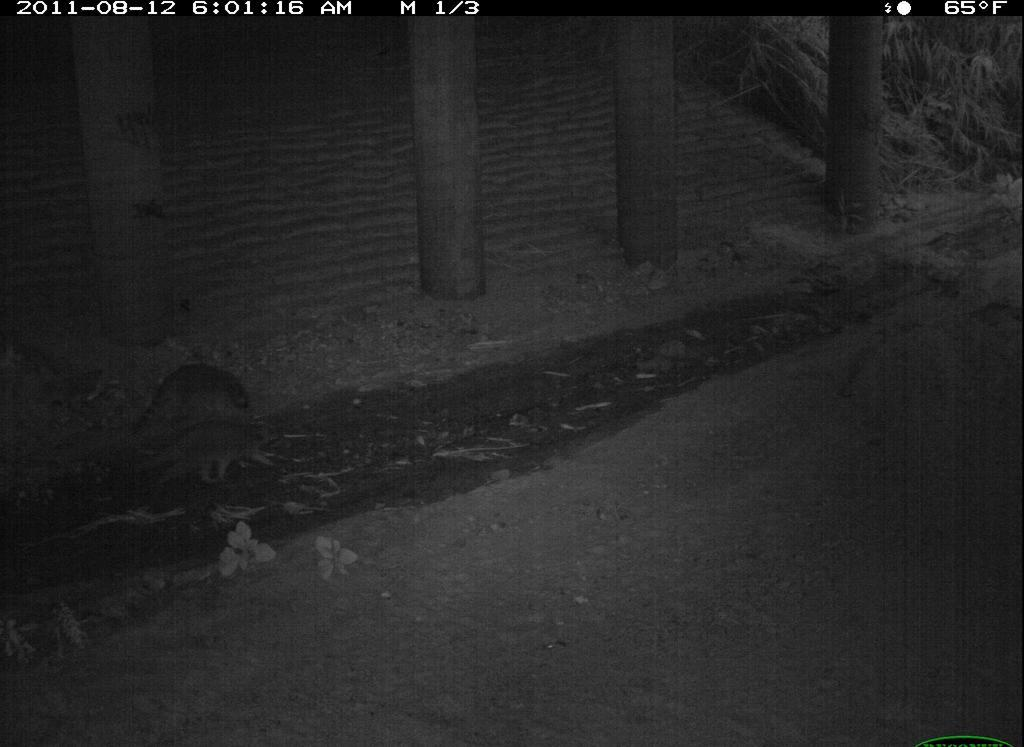raccoon: (248, 712, 512, 747)
